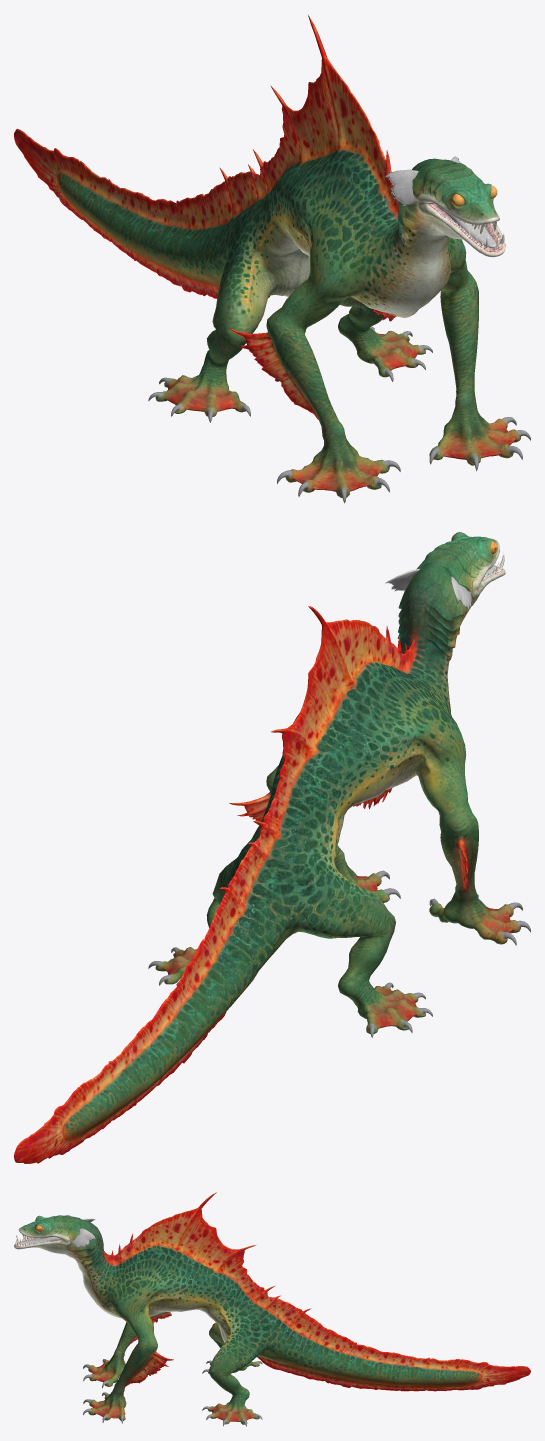
The model's file is pet-1035.glb.
The picture shows the model from 3 angles, top to bottom: view 1: azimuth 30°, elevation 25°; view 2: azimuth 150°, elevation 25°; view 3: azimuth 270°, elevation 25°; orthographic projection. The views are drawn at different scales.
Parts seen in each view (by area): view 1: VEH_Fish_01; view 2: VEH_Fish_01; view 3: VEH_Fish_01.
Part boxes in pixels (bbox=[...]): VEH_Fish_01: bbox=[14, 15, 530, 503]; VEH_Fish_01: bbox=[14, 532, 530, 1163]; VEH_Fish_01: bbox=[14, 1192, 530, 1426].
Size of the model in its own units: 1.24 by 1.69 by 3.93.
1 material, 1 textured.
